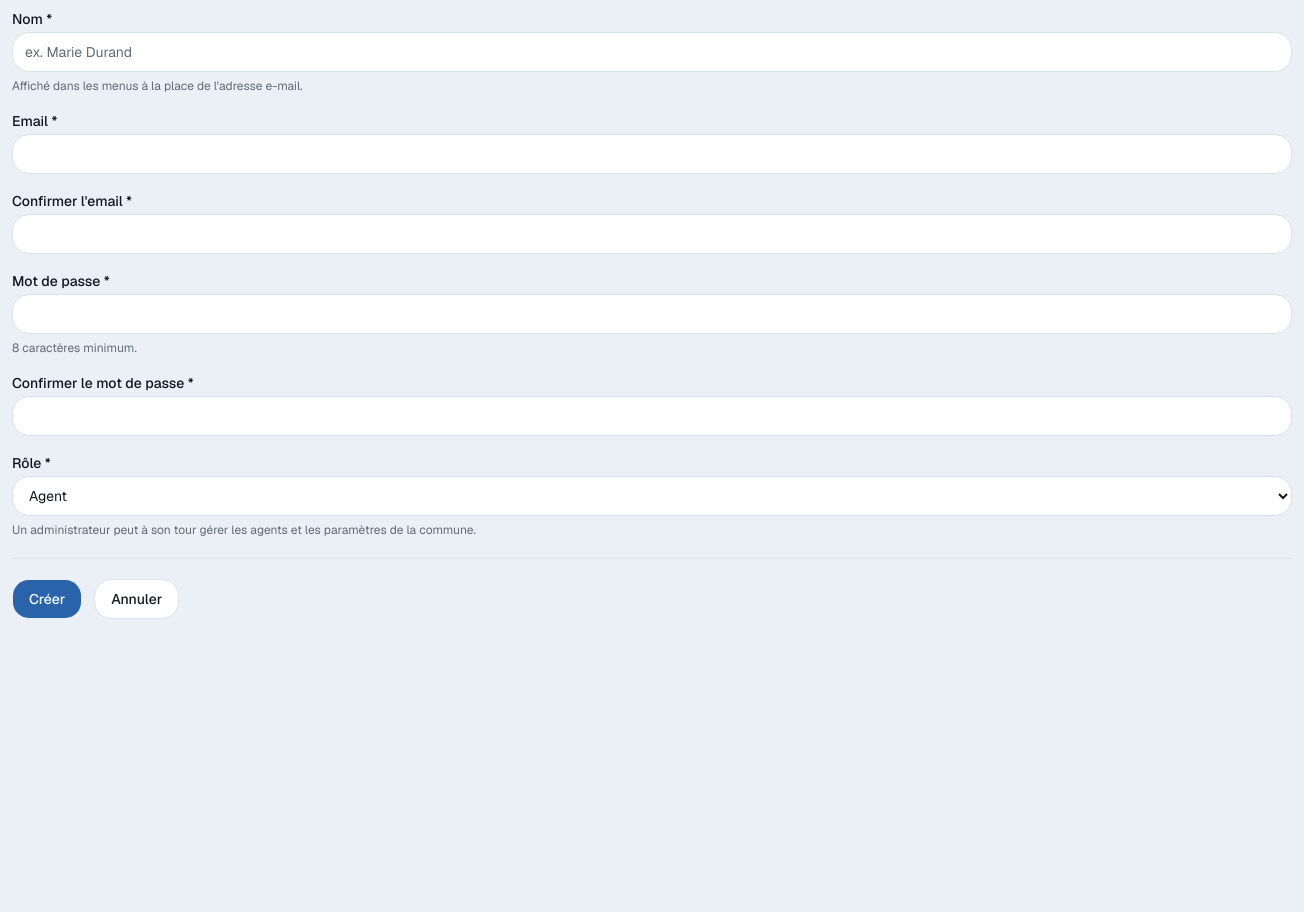
Scenario: StaffForm › stops complaining once the confirmation is corrected
Type "Marie Durand" into the field labelled "Nom *" at (652, 52), box [12,32,1292,72]
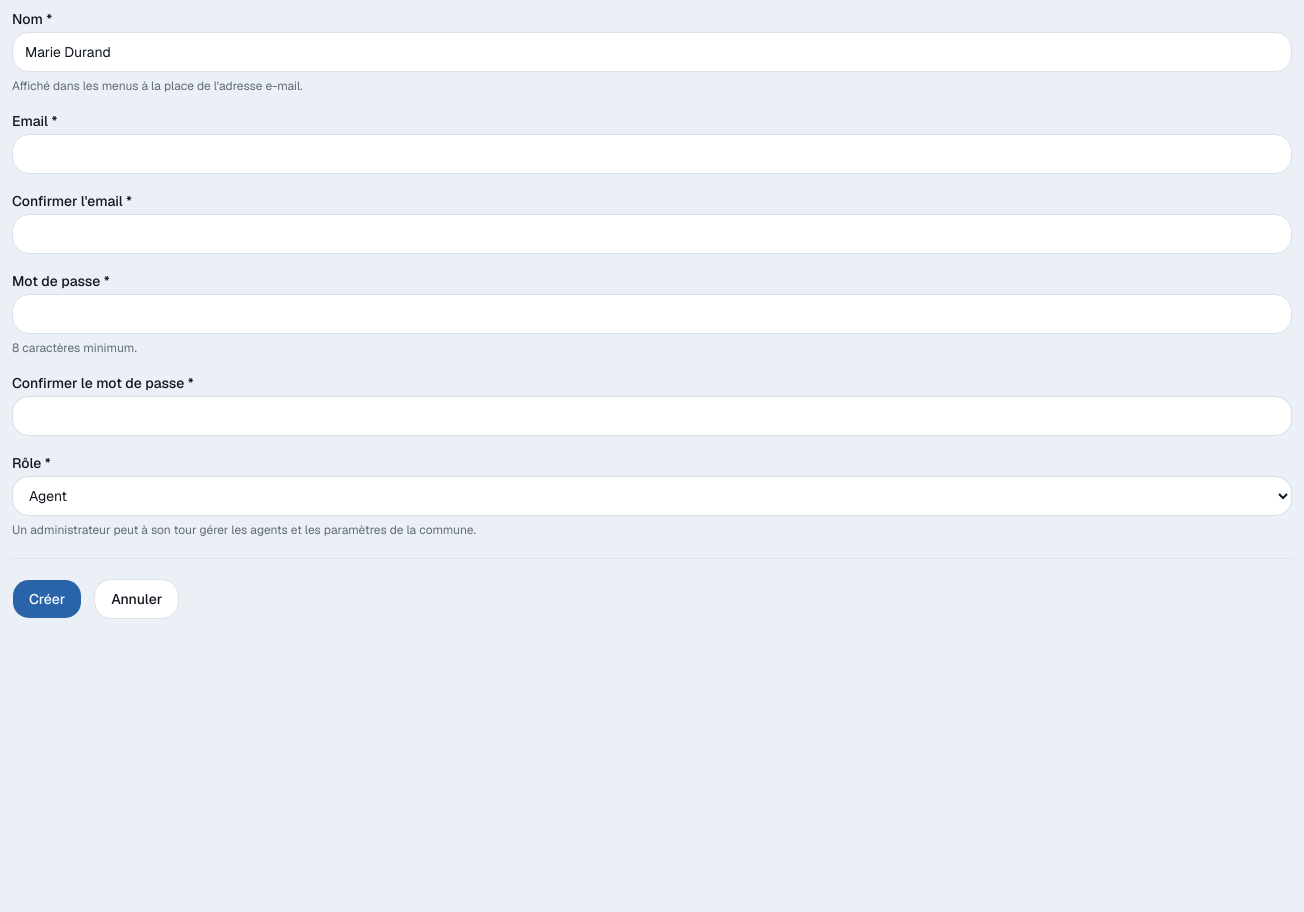
Type "marie@bessan.fr" into the field labelled "Email *" at (652, 154), box [12,134,1292,174]
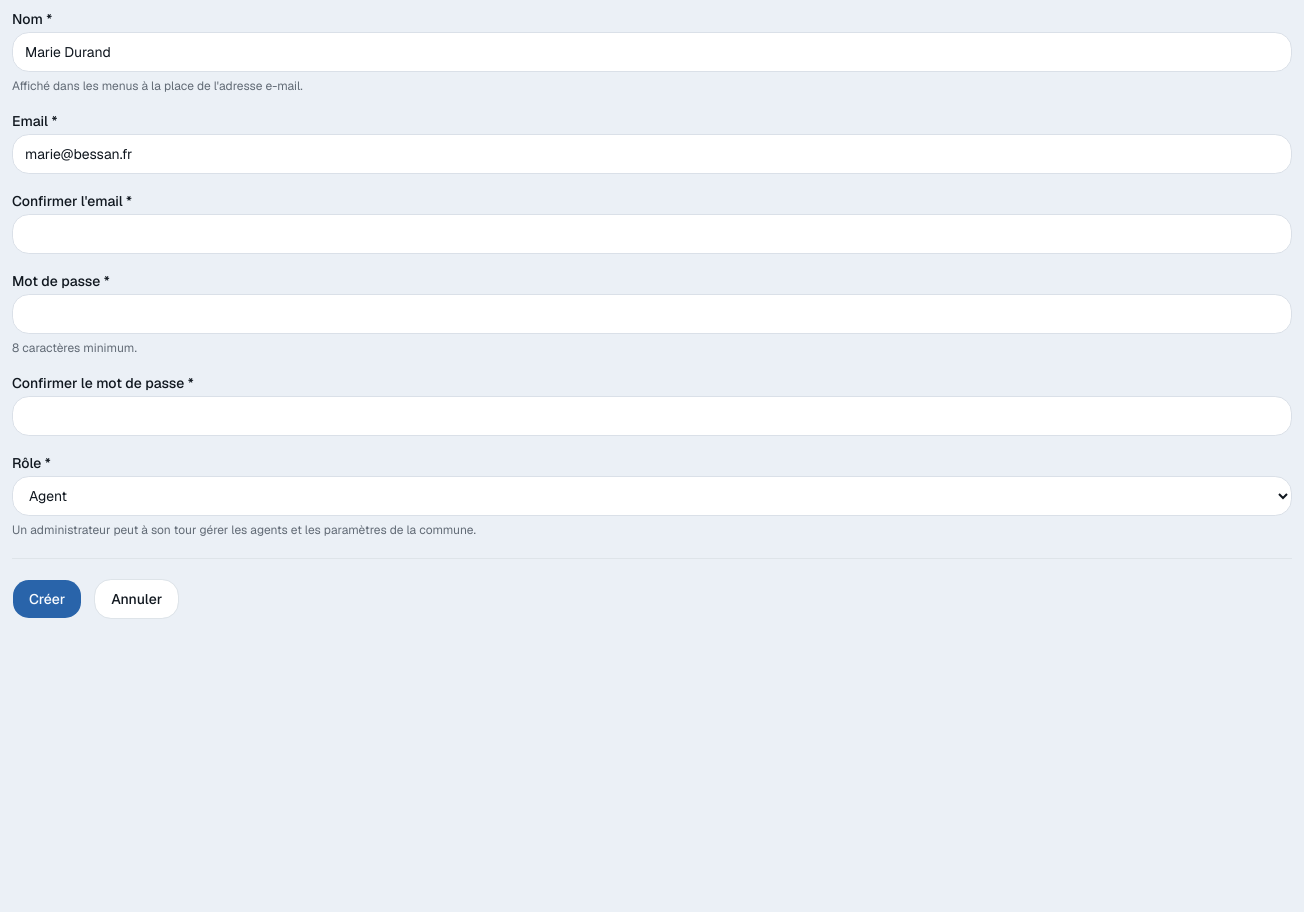
Type "marie@bessan.fr" into the field labelled "Confirmer l'email *" at (652, 234), box [12,214,1292,254]
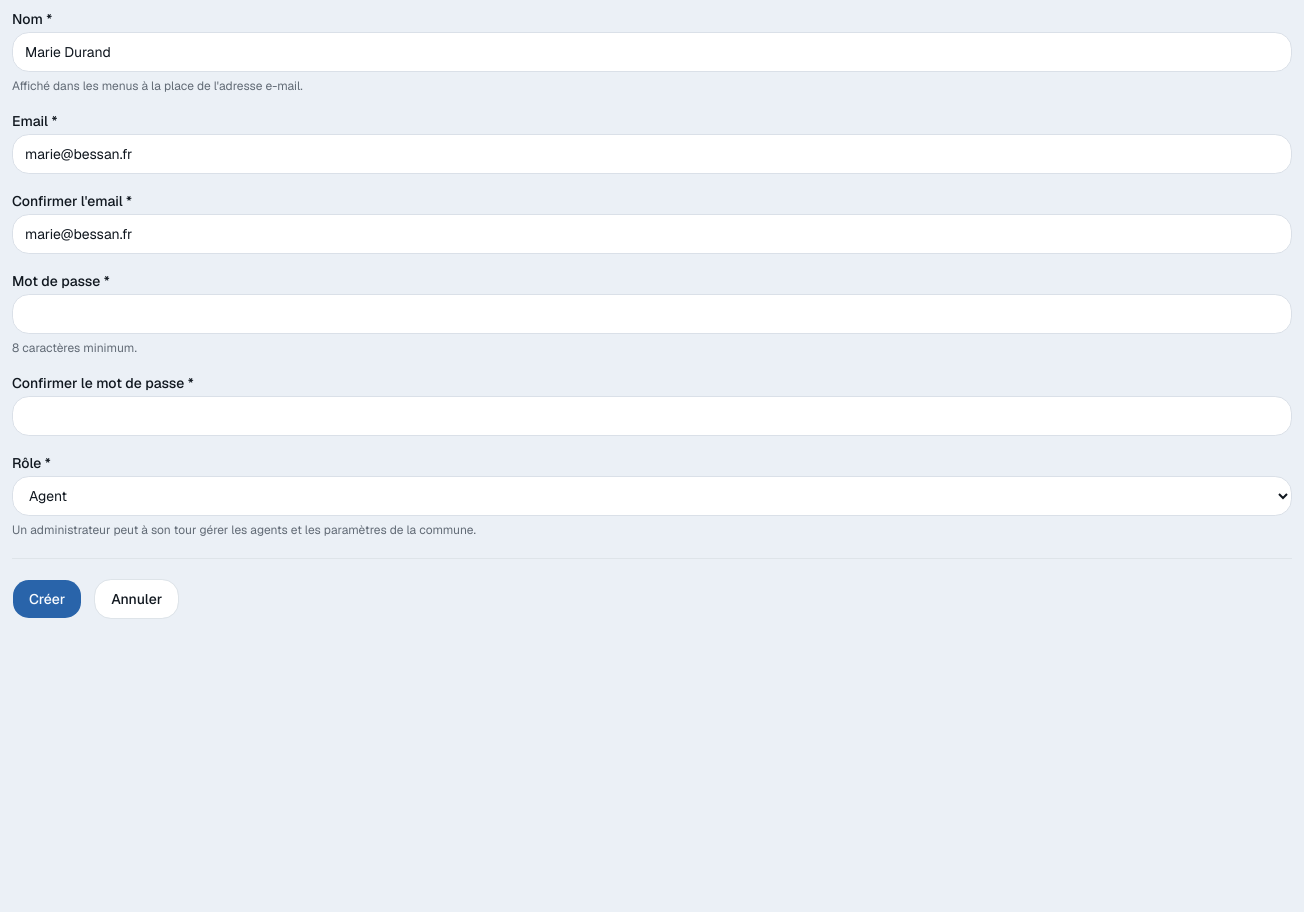
Type "Un-mot-de-passe" into the password field labelled "Mot de passe *" at (652, 314), box [12,294,1292,334]
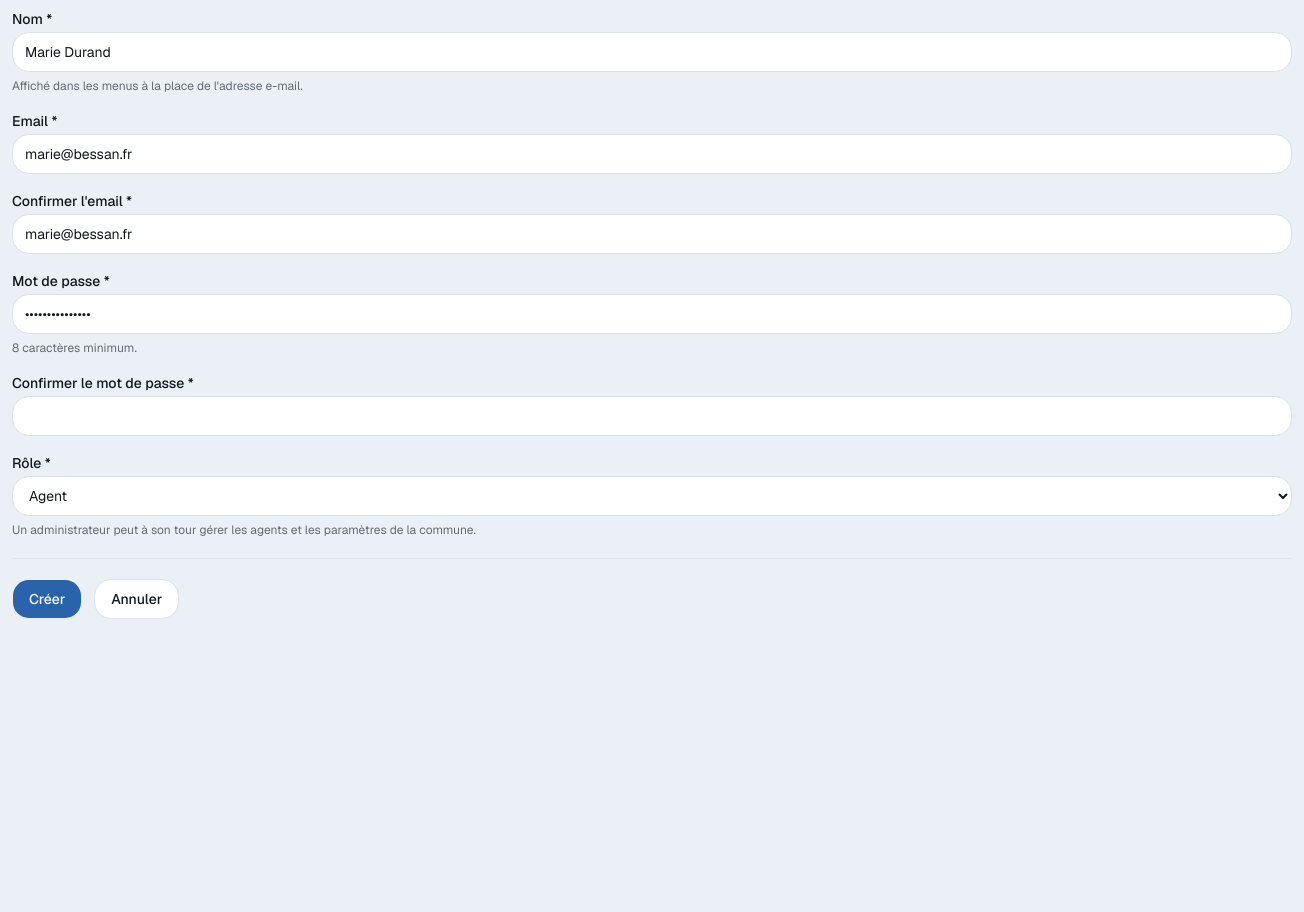
Type "Autre" into the password field labelled "Confirmer le mot de passe *" at (652, 416), box [12,396,1292,436]
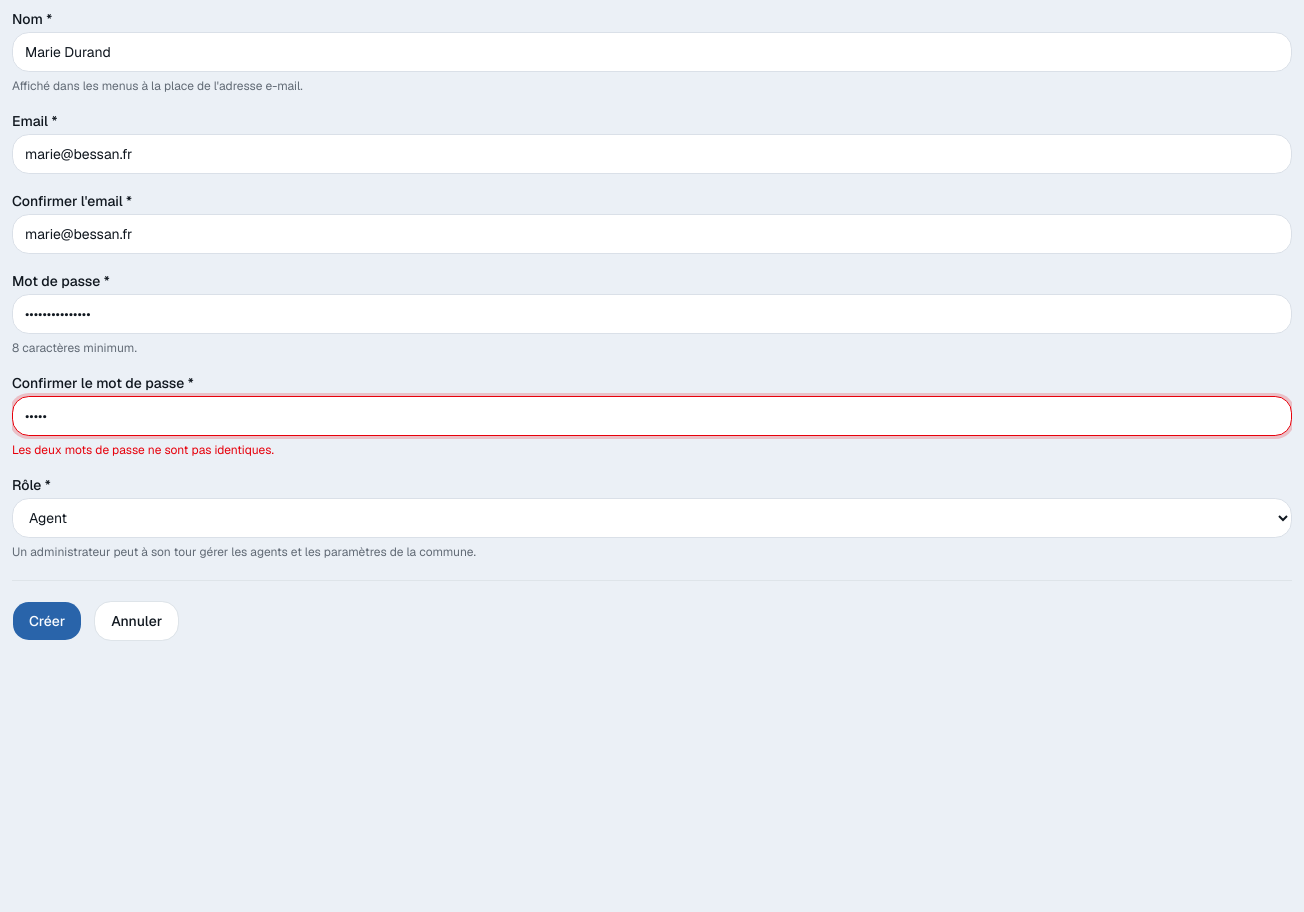
Check: the message "Les deux mots de passe ne sont pas identiques." is shown, box [12,442,274,458]
Type "Un-mot-de-passe" into the password field labelled "Confirmer le mot de passe *" at (652, 416), box [12,396,1292,436]
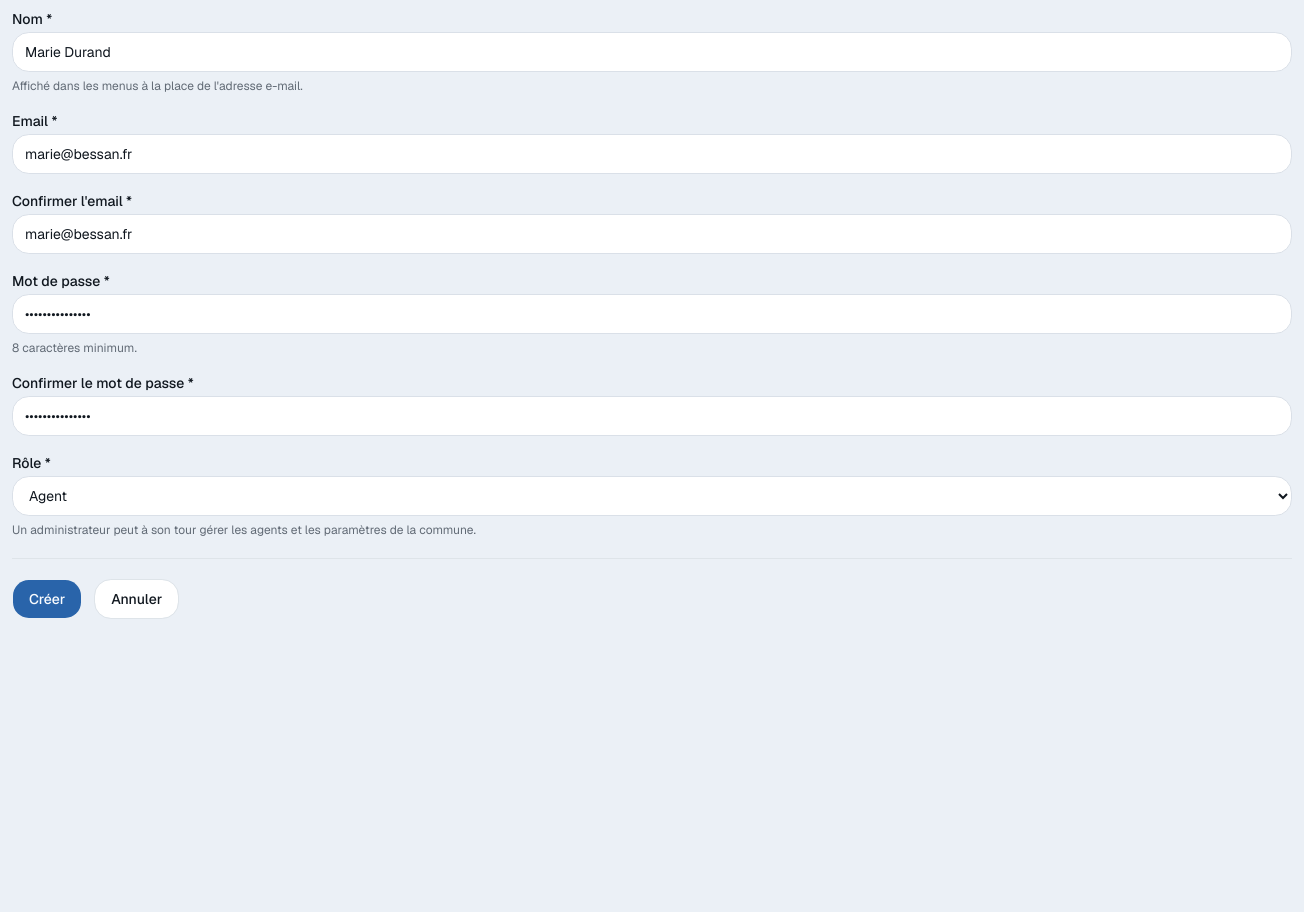
Check: the message "Les deux mots de passe ne sont pas identiques." is gone
